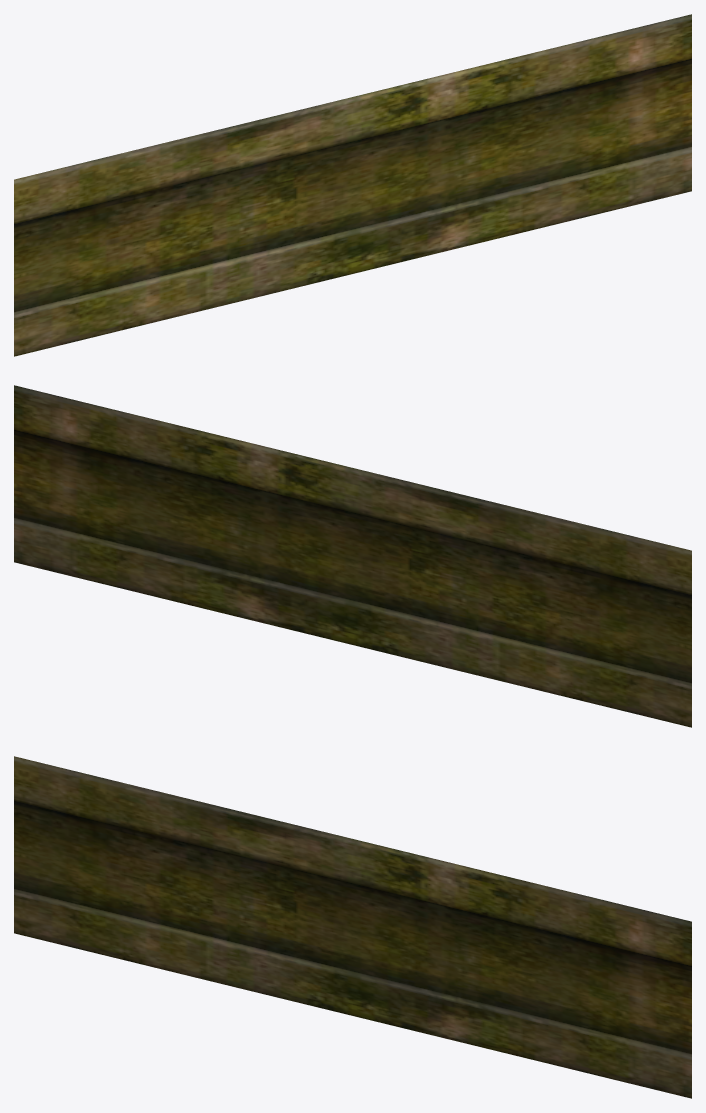
Rendered from OVERHILL_A_01_OBJECT72.fbx.
3 renders of one model, top to bottom at view 1: azimuth 30°, elevation 25°; view 2: azimuth 150°, elevation 25°; view 3: azimuth 330°, elevation 25°, orthographic.
Visible parts, largest first — view 1: OVERHILL_A_01_OBJECT72; view 2: OVERHILL_A_01_OBJECT72; view 3: OVERHILL_A_01_OBJECT72.
Part boxes in pixels (left/top/right/bottom): OVERHILL_A_01_OBJECT72: left=14, top=14, right=691, bottom=356; OVERHILL_A_01_OBJECT72: left=14, top=385, right=691, bottom=727; OVERHILL_A_01_OBJECT72: left=14, top=756, right=691, bottom=1098.
Bounding box in the file's own units: 24035 × 6000 × 3.61.
1 material, 1 textured.
